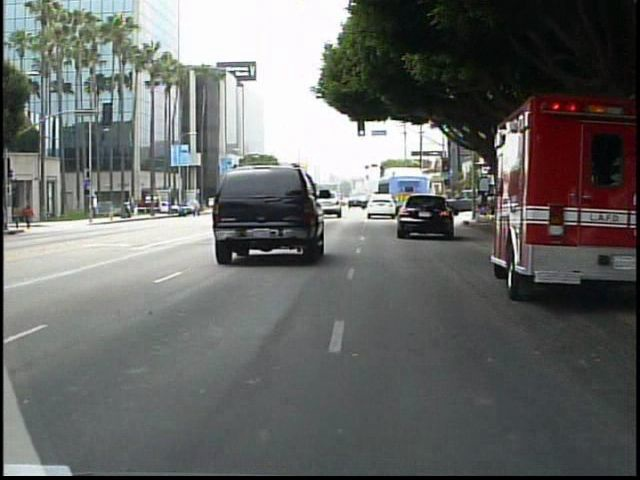person: (25, 201, 38, 232), (11, 202, 24, 229)
